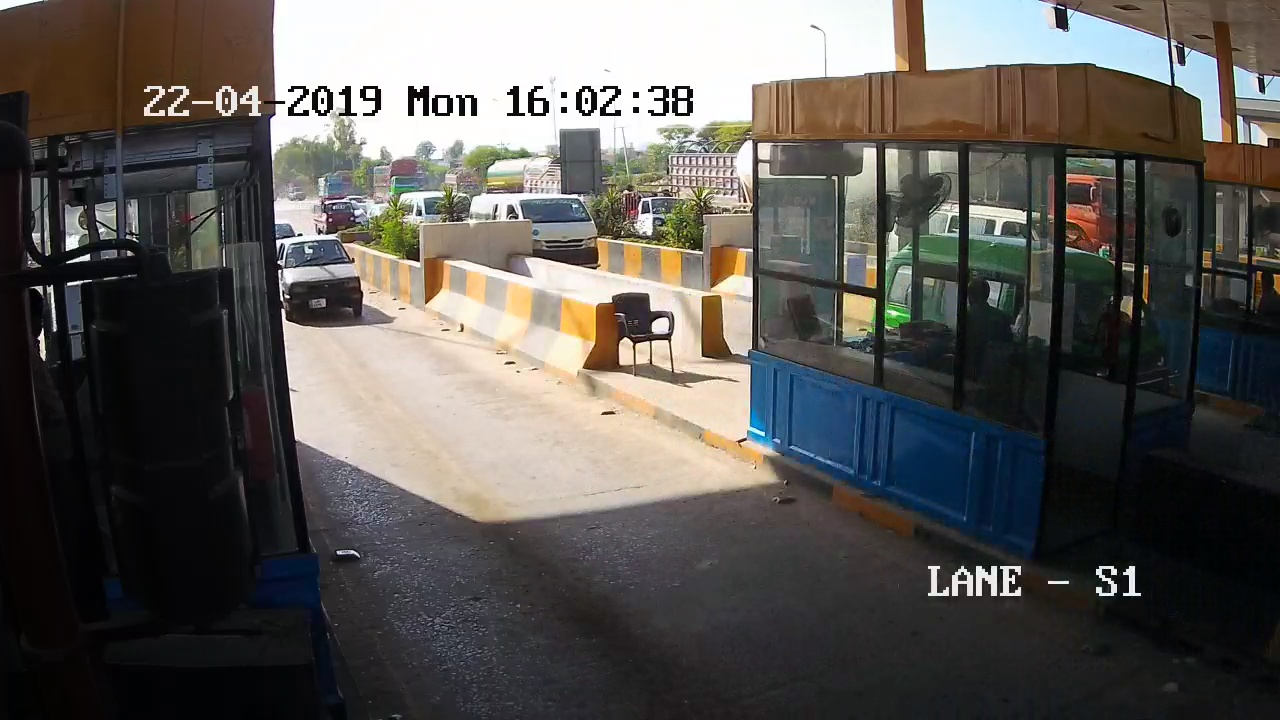car: (275, 231, 366, 326)
